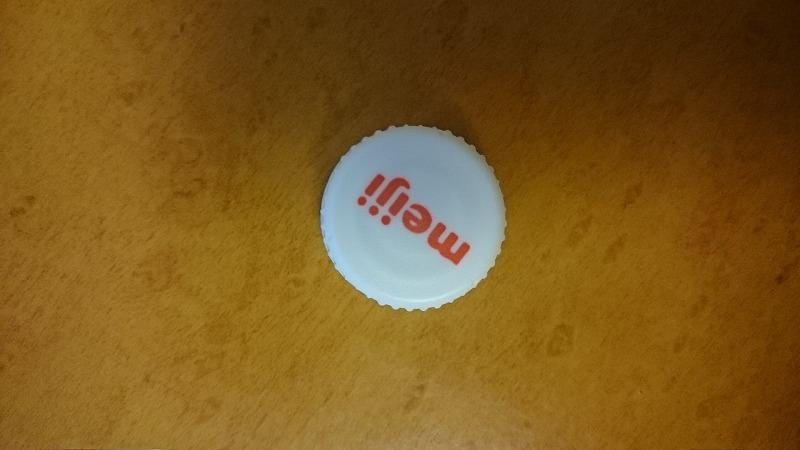B: (304, 114, 537, 320)
